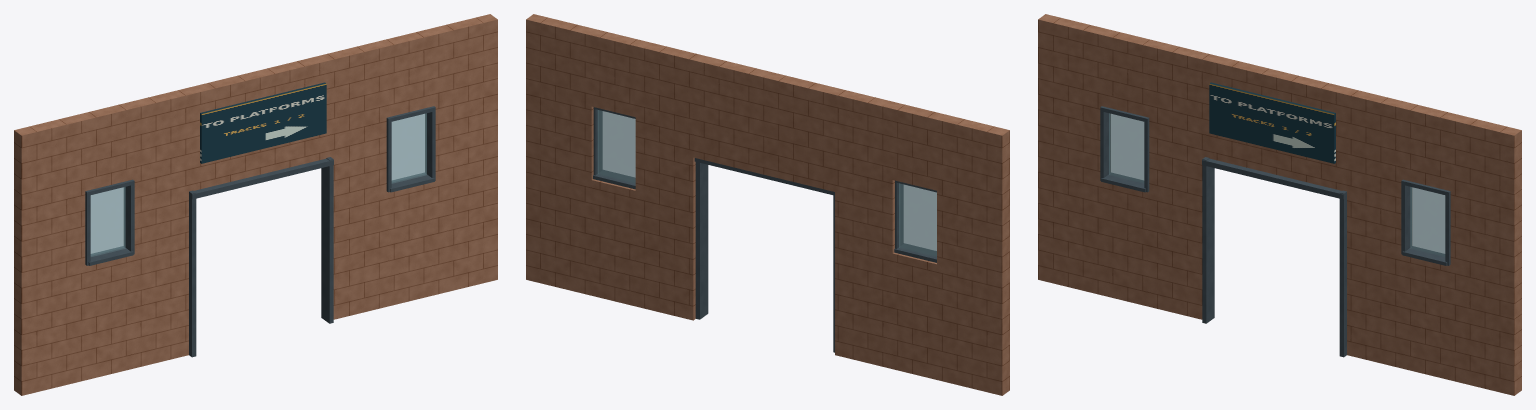
File: PZ_GCR_06_Rear_Platform_Entrance_8m.glb
3 views of the same model, side by side, from view 1: azimuth 30°, elevation 25°; view 2: azimuth 150°, elevation 25°; view 3: azimuth 330°, elevation 25° (orthographic).
Visible parts, largest first — view 1: Rear_Platform_Entrance_8m__Rear_Brick_Pier_Left_WEST, Rear_Platform_Entrance_8m__Rear_Brick_Pier_Right_EAST, Rear_Platform_Entrance_8m__Rear_Brick_Pier_Right_WEST, Rear_Platform_Entrance_8m__Rear_Brick_Pier_Left_EAST, Rear_Platform_Entrance_8m__Rear_Spanning_Lintel, Rear_Platform_Entrance_8m__Platform_Wayfinding_Board, Rear_Platform_Entrance_8m__Rear_Window_Kickwall_EAST, Rear_Platform_Entrance_8m__Rear_Window_Kickwall_WEST, Rear_Platform_Entrance_8m__Rear_Window_Spandrel_WEST, Rear_Platform_Entrance_8m__Rear_Window_Spandrel_EAST, Rear_Platform_Entrance_8m__Rear_Narrow_Tall_Glass_EAST, Rear_Platform_Entrance_8m__Rear_Narrow_Tall_Glass_WEST (+7 smaller); view 2: Rear_Platform_Entrance_8m__Rear_Brick_Pier_Left_WEST, Rear_Platform_Entrance_8m__Rear_Brick_Pier_Right_EAST, Rear_Platform_Entrance_8m__Rear_Brick_Pier_Left_EAST, Rear_Platform_Entrance_8m__Rear_Brick_Pier_Right_WEST, Rear_Platform_Entrance_8m__Rear_Spanning_Lintel, Rear_Platform_Entrance_8m__Rear_Window_Kickwall_EAST, Rear_Platform_Entrance_8m__Rear_Window_Kickwall_WEST, Rear_Platform_Entrance_8m__Rear_Window_Spandrel_WEST, Rear_Platform_Entrance_8m__Rear_Window_Spandrel_EAST, Rear_Platform_Entrance_8m__Rear_Narrow_Tall_Glass_EAST, Rear_Platform_Entrance_8m__Rear_Narrow_Tall_Glass_WEST, Rear_Platform_Entrance_8m__Rear_PassThrough_Right_Jamb (+5 smaller); view 3: Rear_Platform_Entrance_8m__Rear_Brick_Pier_Right_EAST, Rear_Platform_Entrance_8m__Rear_Brick_Pier_Left_WEST, Rear_Platform_Entrance_8m__Rear_Brick_Pier_Left_EAST, Rear_Platform_Entrance_8m__Rear_Brick_Pier_Right_WEST, Rear_Platform_Entrance_8m__Rear_Spanning_Lintel, Rear_Platform_Entrance_8m__Platform_Wayfinding_Board, Rear_Platform_Entrance_8m__Rear_Window_Kickwall_WEST, Rear_Platform_Entrance_8m__Rear_Window_Kickwall_EAST, Rear_Platform_Entrance_8m__Rear_Window_Spandrel_WEST, Rear_Platform_Entrance_8m__Rear_Window_Spandrel_EAST, Rear_Platform_Entrance_8m__Rear_Narrow_Tall_Glass_WEST, Rear_Platform_Entrance_8m__Rear_Narrow_Tall_Glass_EAST (+7 smaller).
Part boxes in pixels (bbox=[...]): Rear_Platform_Entrance_8m__Rear_Brick_Pier_Left_WEST: bbox=[14, 114, 86, 395]; Rear_Platform_Entrance_8m__Rear_Brick_Pier_Right_EAST: bbox=[425, 14, 497, 295]; Rear_Platform_Entrance_8m__Rear_Brick_Pier_Right_WEST: bbox=[124, 89, 188, 368]; Rear_Platform_Entrance_8m__Rear_Brick_Pier_Left_EAST: bbox=[323, 40, 388, 319]; Rear_Platform_Entrance_8m__Rear_Spanning_Lintel: bbox=[182, 55, 330, 191]; Rear_Platform_Entrance_8m__Platform_Wayfinding_Board: bbox=[200, 82, 326, 163]; Rear_Platform_Entrance_8m__Rear_Window_Kickwall_EAST: bbox=[388, 182, 432, 306]; Rear_Platform_Entrance_8m__Rear_Window_Kickwall_WEST: bbox=[87, 256, 131, 379]; Rear_Platform_Entrance_8m__Rear_Window_Spandrel_WEST: bbox=[80, 103, 131, 190]; Rear_Platform_Entrance_8m__Rear_Window_Spandrel_EAST: bbox=[381, 30, 432, 117]; Rear_Platform_Entrance_8m__Rear_Narrow_Tall_Glass_EAST: bbox=[391, 113, 426, 183]; Rear_Platform_Entrance_8m__Rear_Narrow_Tall_Glass_WEST: bbox=[90, 187, 125, 256]; Rear_Platform_Entrance_8m__Rear_Brick_Pier_Left_WEST: bbox=[937, 114, 1009, 395]; Rear_Platform_Entrance_8m__Rear_Brick_Pier_Right_EAST: bbox=[526, 14, 598, 295]; Rear_Platform_Entrance_8m__Rear_Brick_Pier_Left_EAST: bbox=[635, 40, 700, 320]; Rear_Platform_Entrance_8m__Rear_Brick_Pier_Right_WEST: bbox=[835, 89, 899, 368]; Rear_Platform_Entrance_8m__Rear_Spanning_Lintel: bbox=[693, 55, 841, 191]; Rear_Platform_Entrance_8m__Rear_Window_Kickwall_EAST: bbox=[591, 179, 635, 306]; Rear_Platform_Entrance_8m__Rear_Window_Kickwall_WEST: bbox=[892, 252, 936, 379]; Rear_Platform_Entrance_8m__Rear_Window_Spandrel_WEST: bbox=[892, 103, 943, 190]; Rear_Platform_Entrance_8m__Rear_Window_Spandrel_EAST: bbox=[591, 30, 642, 117]; Rear_Platform_Entrance_8m__Rear_Narrow_Tall_Glass_EAST: bbox=[597, 110, 635, 183]; Rear_Platform_Entrance_8m__Rear_Narrow_Tall_Glass_WEST: bbox=[899, 183, 936, 257]; Rear_Platform_Entrance_8m__Rear_PassThrough_Right_Jamb: bbox=[695, 162, 708, 319]; Rear_Platform_Entrance_8m__Rear_Brick_Pier_Right_EAST: bbox=[1449, 114, 1521, 395]; Rear_Platform_Entrance_8m__Rear_Brick_Pier_Left_WEST: bbox=[1038, 14, 1110, 295]; Rear_Platform_Entrance_8m__Rear_Brick_Pier_Left_EAST: bbox=[1347, 89, 1411, 368]; Rear_Platform_Entrance_8m__Rear_Brick_Pier_Right_WEST: bbox=[1147, 40, 1212, 319]; Rear_Platform_Entrance_8m__Rear_Spanning_Lintel: bbox=[1205, 55, 1353, 191]; Rear_Platform_Entrance_8m__Platform_Wayfinding_Board: bbox=[1209, 82, 1335, 163]; Rear_Platform_Entrance_8m__Rear_Window_Kickwall_WEST: bbox=[1103, 182, 1147, 306]; Rear_Platform_Entrance_8m__Rear_Window_Kickwall_EAST: bbox=[1404, 256, 1448, 379]; Rear_Platform_Entrance_8m__Rear_Window_Spandrel_WEST: bbox=[1103, 30, 1154, 117]; Rear_Platform_Entrance_8m__Rear_Window_Spandrel_EAST: bbox=[1404, 103, 1455, 190]; Rear_Platform_Entrance_8m__Rear_Narrow_Tall_Glass_WEST: bbox=[1109, 113, 1144, 183]; Rear_Platform_Entrance_8m__Rear_Narrow_Tall_Glass_EAST: bbox=[1410, 187, 1445, 256].
Size of the model in its own units: 8 by 4.18 by 0.346.
Materials: 4 (4 with a texture image).
